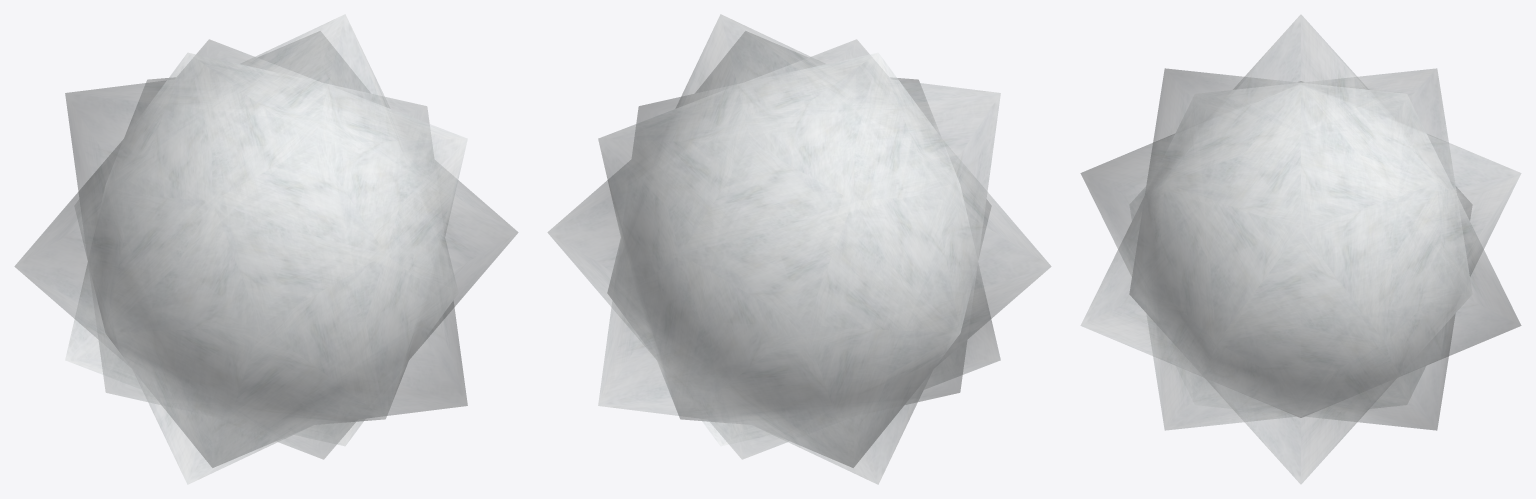
Rendered from MedialIcosacronicHexecontahedronA.gltf.
3 views of the same model, side by side, from view 1: azimuth 30°, elevation 25°; view 2: azimuth 150°, elevation 25°; view 3: azimuth 270°, elevation 25° (orthographic). The views are drawn at different scales.
Parts seen in each view (by area): view 1: MedialIcosacronicHexecontahedron9; view 2: MedialIcosacronicHexecontahedron9; view 3: MedialIcosacronicHexecontahedron9.
Part boxes in pixels (box(x1,y1,x2,y2)): MedialIcosacronicHexecontahedron9: box(14, 14, 518, 484); MedialIcosacronicHexecontahedron9: box(547, 14, 1051, 484); MedialIcosacronicHexecontahedron9: box(1080, 14, 1521, 484).
Size of the model in its own units: 3.24 by 3.24 by 3.24.
Materials: 1 (1 with a texture image).
